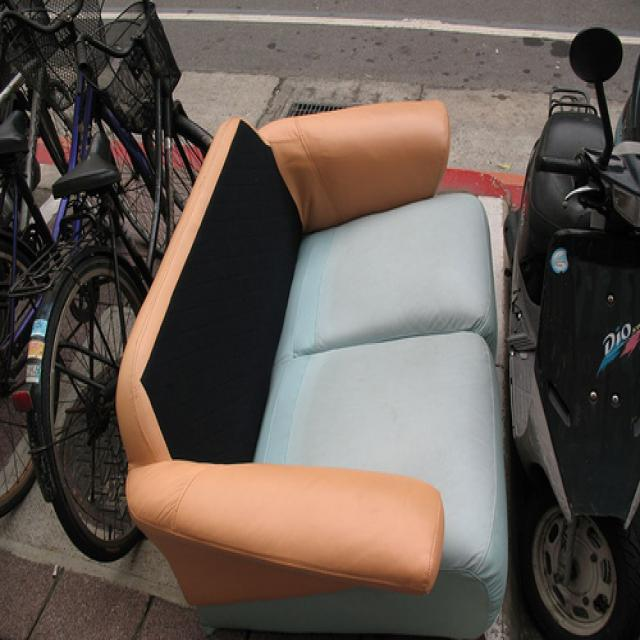bicycle: (11, 1, 216, 568), (1, 1, 173, 522)
motorbike: (508, 27, 640, 639)
sofa: (114, 99, 509, 640)
